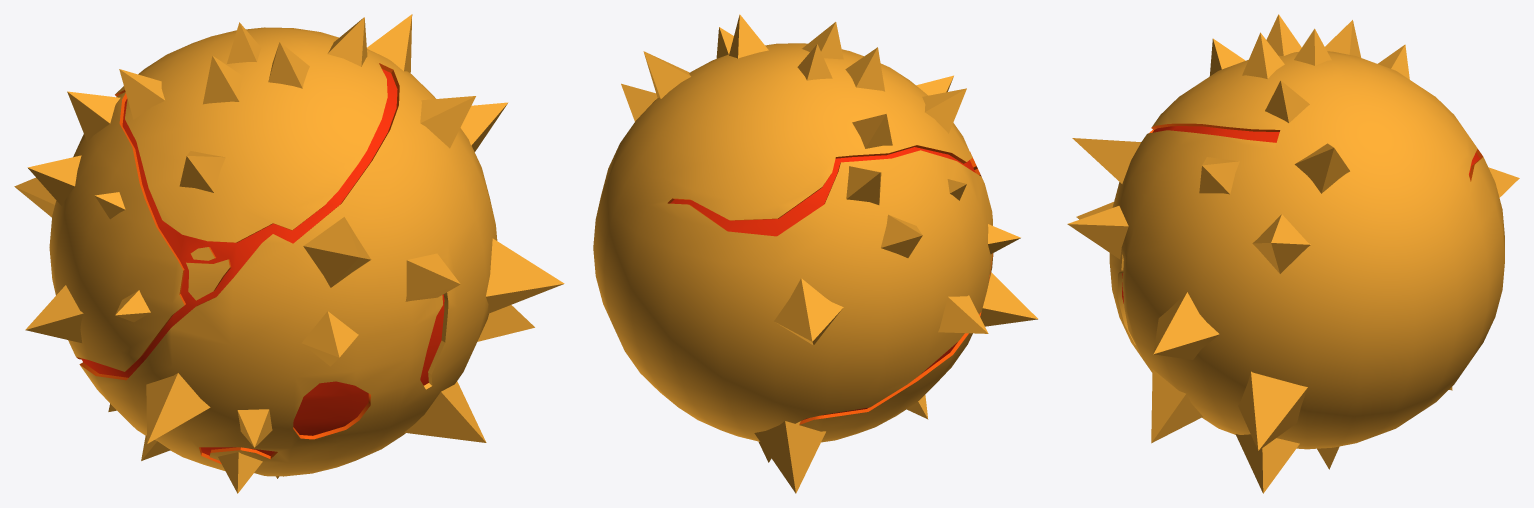
Rendered from Explosive_Planet_Lava_Pyramid.fbx.
3 views of the same model, side by side, from view 1: azimuth 30°, elevation 25°; view 2: azimuth 150°, elevation 25°; view 3: azimuth 270°, elevation 25° (orthographic). The views are drawn at different scales.
Parts seen in each view (by area): view 1: Planet_LavaPyramid_Mesh; view 2: Planet_LavaPyramid_Mesh; view 3: Planet_LavaPyramid_Mesh.
Part boxes in pixels (x1,y1,x2,y2): Planet_LavaPyramid_Mesh: (14,14,564,493); Planet_LavaPyramid_Mesh: (593,14,1038,493); Planet_LavaPyramid_Mesh: (1067,14,1519,493).
Size of the model in its own units: 5.22 by 5.07 by 4.93.
